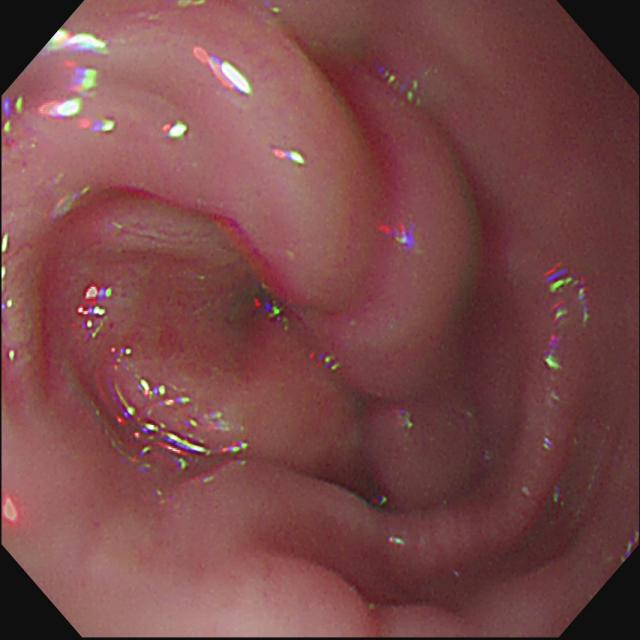U: (117, 373, 250, 485), (38, 61, 99, 119), (193, 47, 254, 98), (542, 260, 565, 372), (2, 230, 20, 364), (40, 32, 112, 59), (383, 69, 427, 113), (376, 217, 421, 254), (2, 94, 24, 141), (392, 402, 417, 436), (270, 147, 306, 168), (255, 299, 283, 320), (319, 354, 345, 376), (78, 118, 115, 133), (162, 121, 189, 139), (84, 286, 114, 300), (77, 306, 107, 318)
